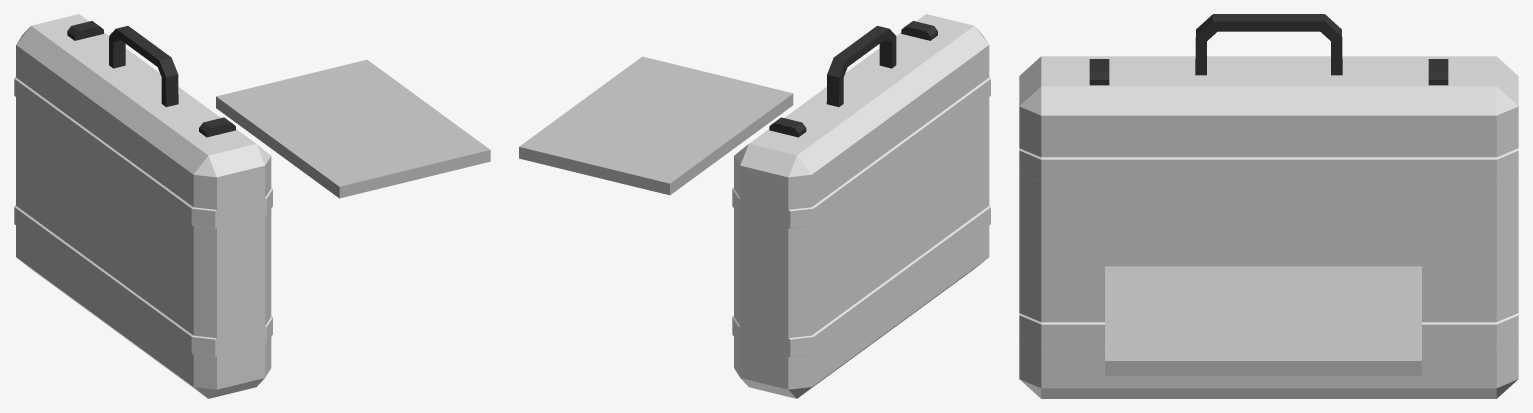
File: Items.FBX
The picture shows the model from 3 angles, left to right: view 1: azimuth 30°, elevation 25°; view 2: azimuth 150°, elevation 25°; view 3: azimuth 270°, elevation 25°; orthographic projection. The views are drawn at different scales.
Visible parts, largest first — view 1: PROP_Attache, PROP_Manual; view 2: PROP_Attache, PROP_Manual; view 3: PROP_Attache, PROP_Manual.
Part boxes in pixels (<box>): PROP_Attache: <box>14,14,272,398</box>; PROP_Manual: <box>216,59,490,198</box>; PROP_Attache: <box>732,14,990,398</box>; PROP_Manual: <box>519,56,793,195</box>; PROP_Attache: <box>1019,14,1518,398</box>; PROP_Manual: <box>1105,266,1421,375</box>.
Size of the model in its own units: 44.99 by 37.86 by 46.83.
